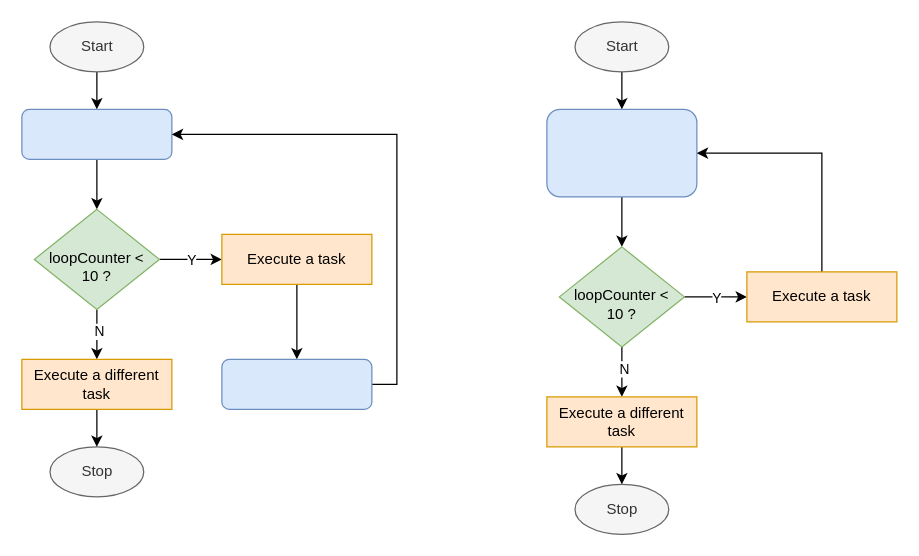
The diagram is 919 pixels wide and 556 high, and some of its shapes have lost their labels. The shapes that lost their labels are listed below. From the top down, each one's centre as x and y in pixels, then its label:
At (x=96, y=133): "let loopCounter = 0".
At (x=621, y=152): "let loopCounter = 0; loopCounter < 10; loopCounter++".
At (x=296, y=383): "loopCounter++".
